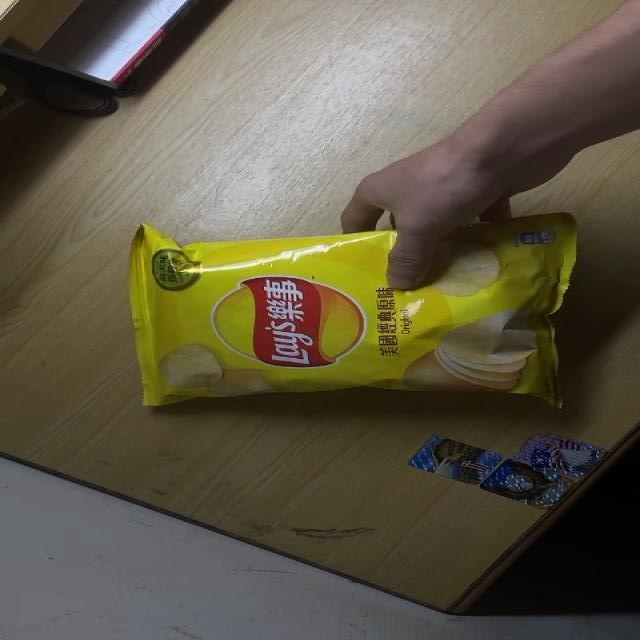Lay-s-original: (131, 214, 580, 407)
